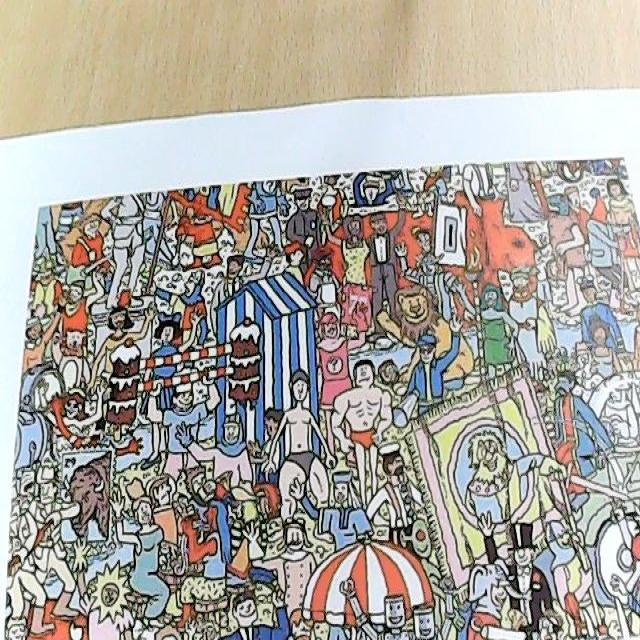waldo: (409, 220, 434, 255)
